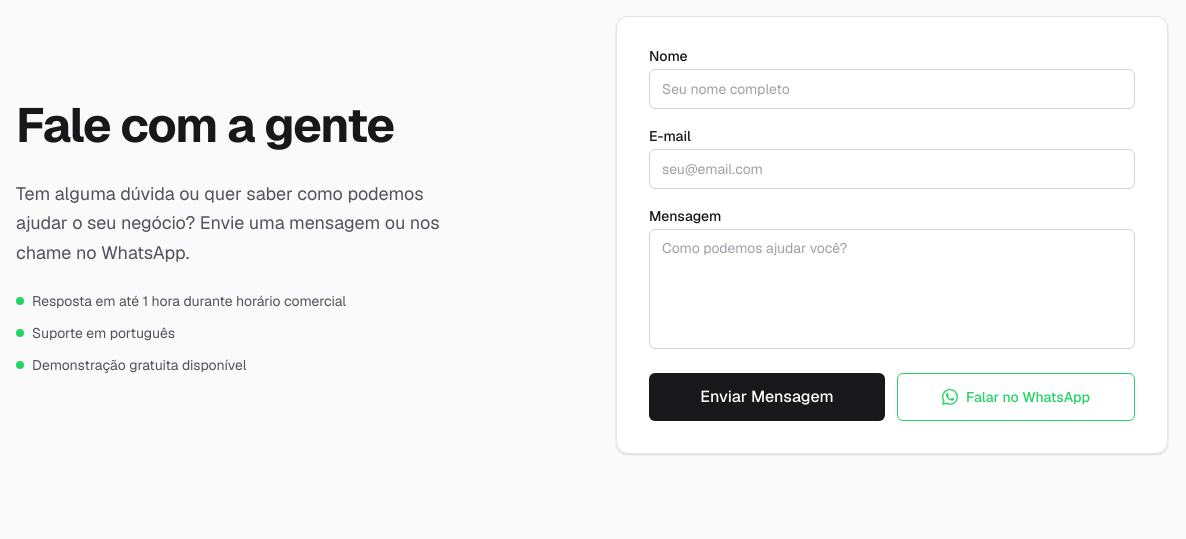
Test: Contact form › validation errors on submit with empty fields › shows name required error when name is empty
What coordinates should you click on to do the following:
click the button "Enviar Mensagem"
I would click on:
 (767, 397)
Its box is [649, 373, 885, 421].
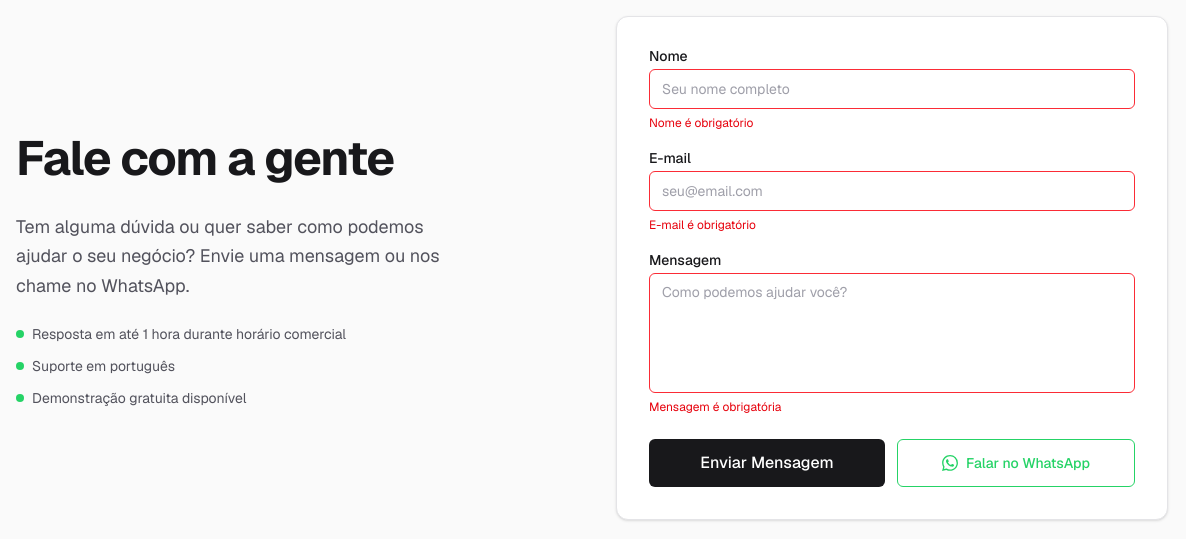
Check: the text "Nome é obrigatório" is shown, box [649, 115, 754, 131]
